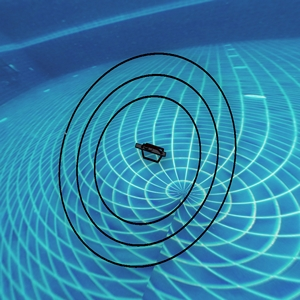circle: (41, 33, 253, 279)
submarine: (135, 142, 167, 162)
